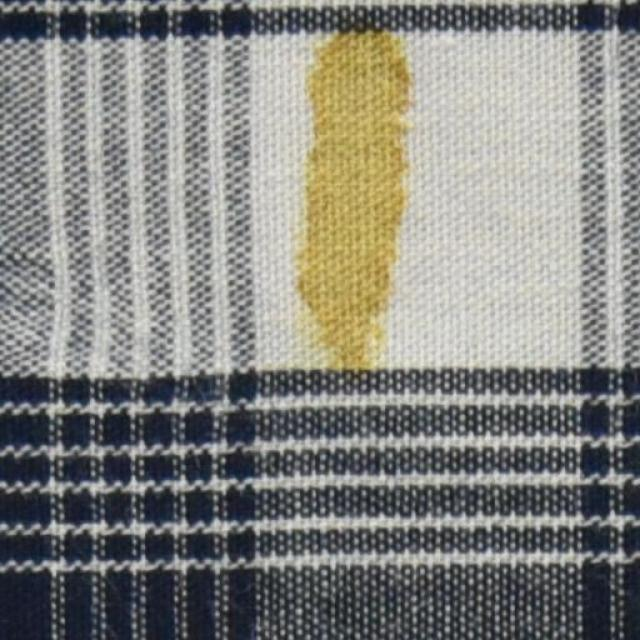Stain: (285, 33, 405, 368)
